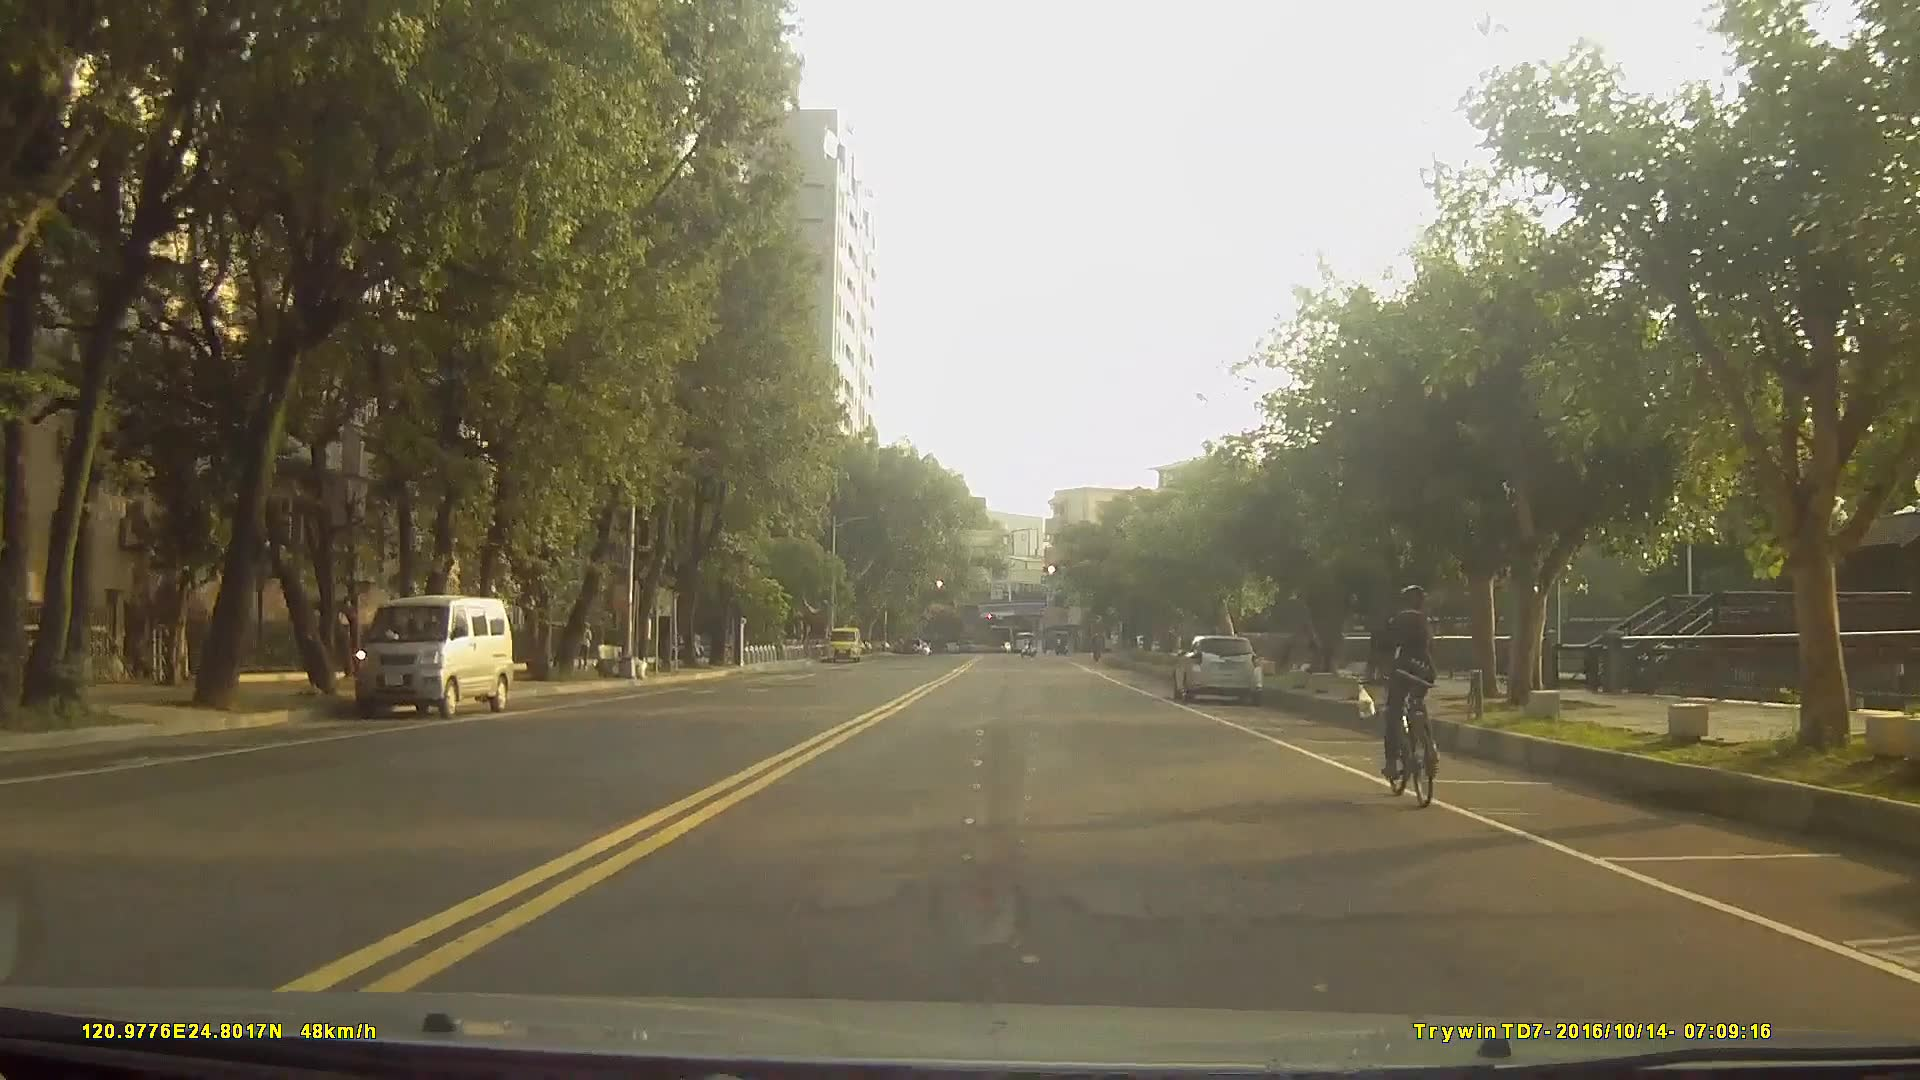rider: (1372, 582, 1441, 804)
vehicle: (355, 592, 514, 719), (1173, 631, 1263, 704), (1009, 627, 1034, 653)
